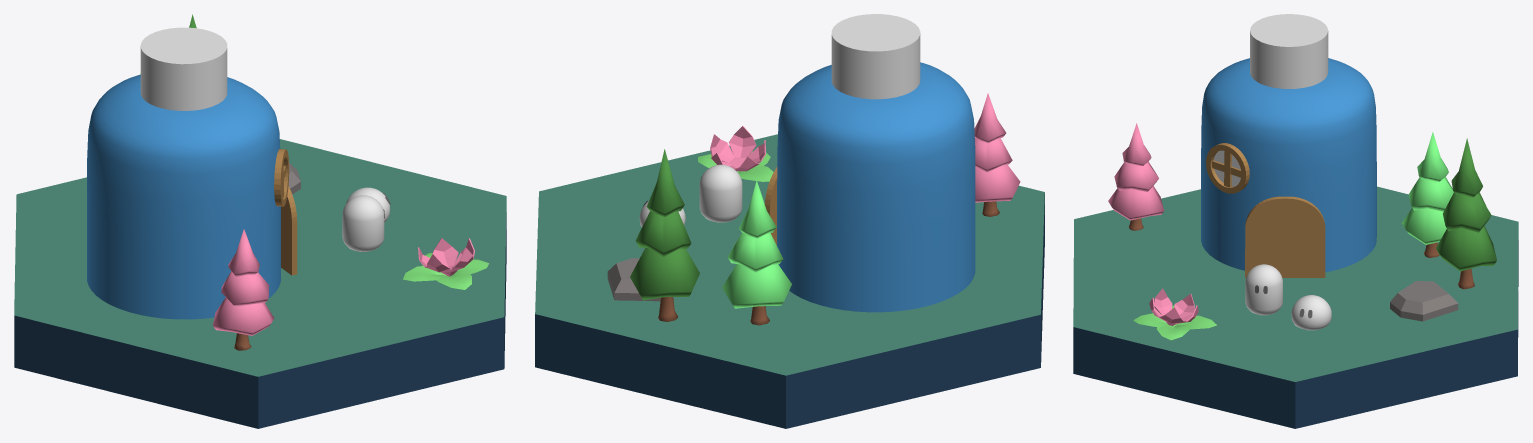
The model's file is Macro - housing lv1.fbx.
The picture shows the model from 3 angles, left to right: view 1: azimuth 30°, elevation 25°; view 2: azimuth 150°, elevation 25°; view 3: azimuth 270°, elevation 25°; orthographic projection. The views are drawn at different scales.
Visible parts, largest first — view 1: Cylinder.154, bottle, Cylinder, Tree_Spruce_tiny_01.009, Sphere.033, pink_water_lily_2_open.001, Cube.009, Plane.010, Cube.013; view 2: Cylinder.154, bottle, Cylinder, Tree_Spruce_tiny_01.011, Tree_Spruce_tiny_01.010, Tree_Spruce_tiny_01.009, Sphere.033, pink_water_lily_2_open.001, Rock Type4 04 mesh.001, Plane.010, Cube.009; view 3: Cylinder.154, bottle, Cube.009, Cylinder, Tree_Spruce_tiny_01.011, Tree_Spruce_tiny_01.010, Tree_Spruce_tiny_01.009, Rock Type4 04 mesh.001, Sphere.033, Cube.013, Sphere.032, pink_water_lily_2_open.001 (+1 smaller).
Part boxes in pixels (x1,y1,x2,y2): Cylinder.154: [14, 139, 506, 428]; bottle: [87, 74, 280, 319]; Cylinder: [140, 27, 227, 110]; Tree_Spruce_tiny_01.009: [213, 229, 274, 350]; Sphere.033: [342, 195, 384, 251]; pink_water_lily_2_open.001: [418, 238, 474, 276]; Cube.009: [281, 186, 297, 275]; Plane.010: [403, 253, 488, 289]; Cube.013: [274, 149, 289, 206]; Cylinder.154: [535, 134, 1044, 428]; bottle: [777, 62, 975, 312]; Cylinder: [831, 14, 920, 99]; Tree_Spruce_tiny_01.011: [630, 149, 699, 321]; Tree_Spruce_tiny_01.010: [722, 180, 791, 325]; Tree_Spruce_tiny_01.009: [974, 93, 1020, 216]; Sphere.033: [699, 164, 742, 222]; pink_water_lily_2_open.001: [710, 126, 765, 171]; Rock Type4 04 mesh.001: [607, 258, 660, 301]; Plane.010: [698, 151, 773, 181]; Cube.009: [764, 167, 777, 245]; Cylinder.154: [1073, 186, 1518, 428]; bottle: [1201, 58, 1376, 272]; Cube.009: [1245, 196, 1325, 277]; Cylinder: [1250, 14, 1328, 88]; Tree_Spruce_tiny_01.011: [1436, 138, 1496, 289]; Tree_Spruce_tiny_01.010: [1402, 132, 1453, 257]; Tree_Spruce_tiny_01.009: [1108, 123, 1164, 230]; Rock Type4 04 mesh.001: [1390, 281, 1458, 321]; Sphere.033: [1245, 264, 1282, 315]; Cube.013: [1206, 143, 1249, 193]; Sphere.032: [1291, 295, 1331, 330]; pink_water_lily_2_open.001: [1149, 288, 1198, 325].
Bounding box in the file's own units: 197 × 109 × 172.
